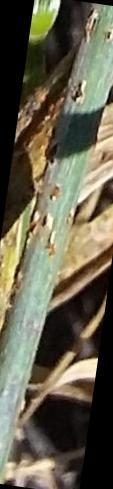Wheat: (29, 182, 62, 250)
